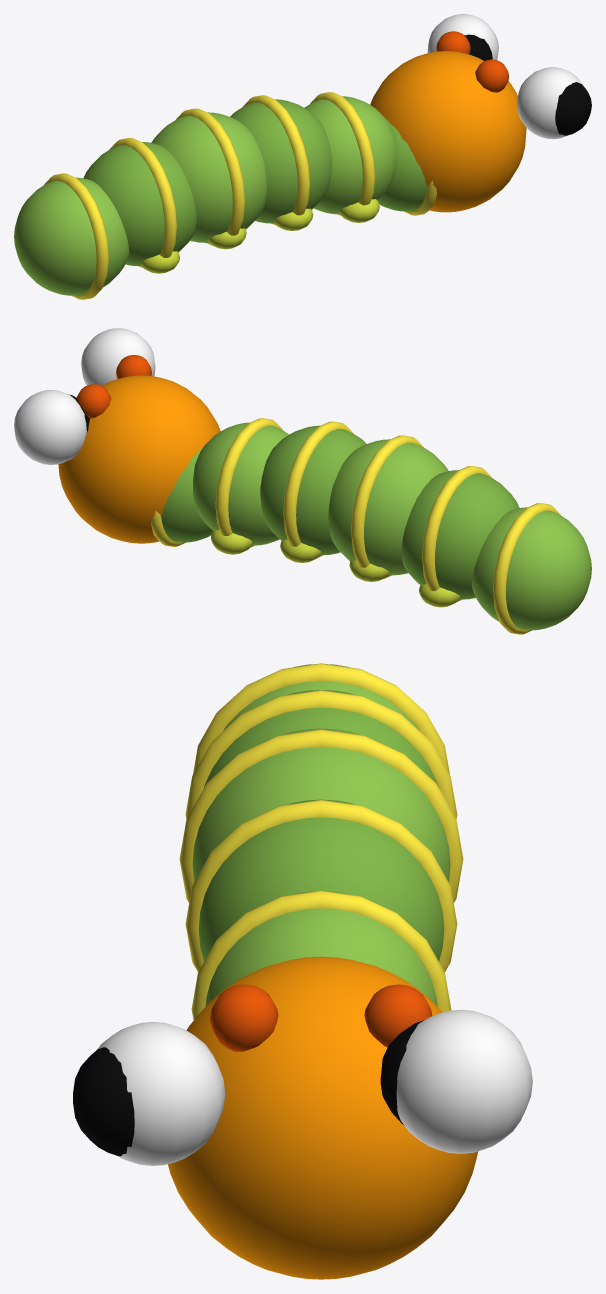
The model's file is ulat.glb.
3 renders of one model, top to bottom at view 1: azimuth 30°, elevation 25°; view 2: azimuth 150°, elevation 25°; view 3: azimuth 270°, elevation 25°, orthographic. The views are drawn at different scales.
Size of the model in its own units: 1.56 by 0.435 by 0.5981.
